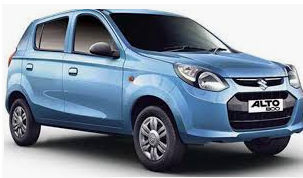car: (4, 7, 301, 171)
